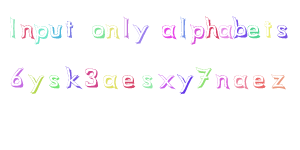3: (83, 67, 99, 89)
6: (8, 66, 26, 88)
7: (195, 67, 212, 89)
I: (5, 15, 24, 40)
a: (160, 23, 177, 40), (102, 73, 119, 90), (232, 73, 248, 90), (217, 22, 232, 40)
b: (232, 14, 247, 40)
e: (120, 73, 136, 91), (246, 22, 261, 40), (252, 74, 266, 90)
h: (204, 15, 219, 40)
k: (63, 66, 83, 90)
l: (121, 14, 132, 40), (178, 15, 187, 40)
n: (18, 21, 35, 40), (215, 72, 230, 92), (106, 23, 121, 40)
o: (90, 23, 106, 40)
p: (189, 22, 205, 45), (34, 22, 48, 45)
s: (45, 73, 61, 89), (275, 23, 289, 40), (141, 73, 154, 90)
t: (64, 18, 76, 39), (262, 19, 273, 38)
u: (48, 22, 65, 40)
x: (158, 72, 175, 91)
y: (176, 72, 194, 95), (27, 73, 45, 95), (132, 22, 149, 44)
z: (270, 72, 286, 90)
